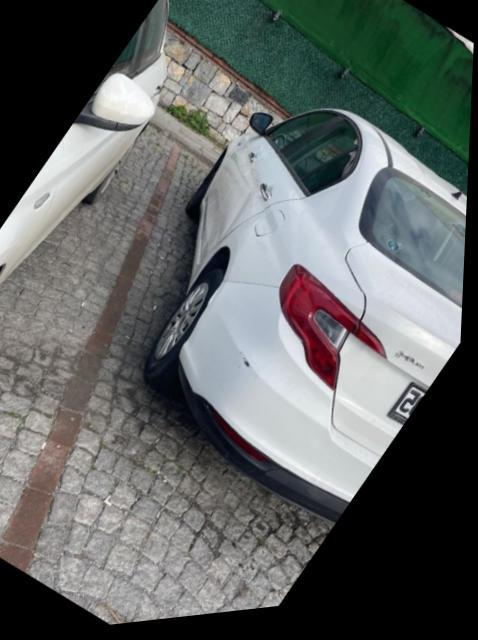dent: (224, 189, 260, 244)
scratch: (242, 356, 262, 384)
